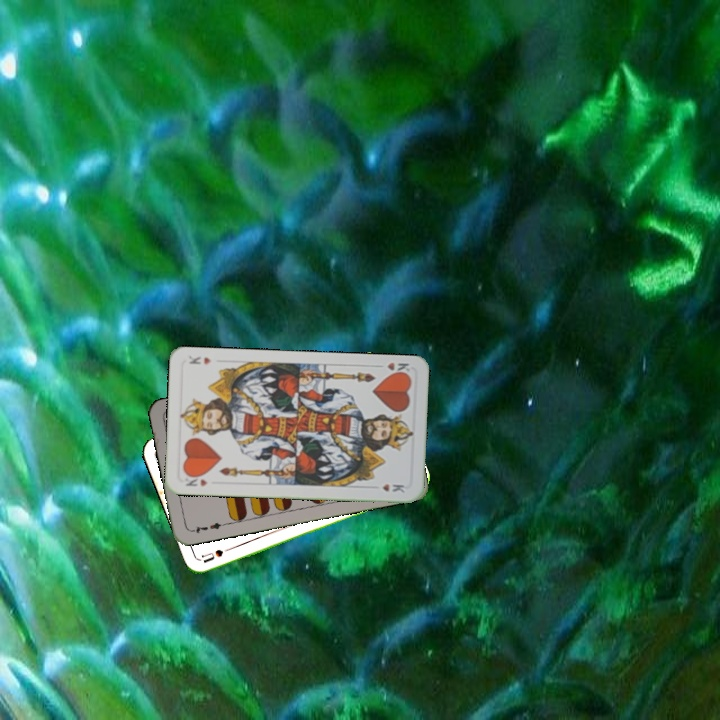E7: (187, 518, 227, 536)
HK: (372, 358, 412, 378), (181, 471, 210, 489)
SU: (199, 542, 238, 566)
